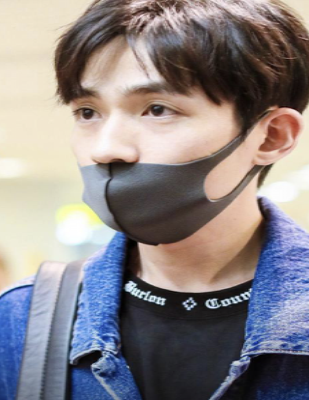mask_weared_incorrect: (65, 80, 233, 247)
